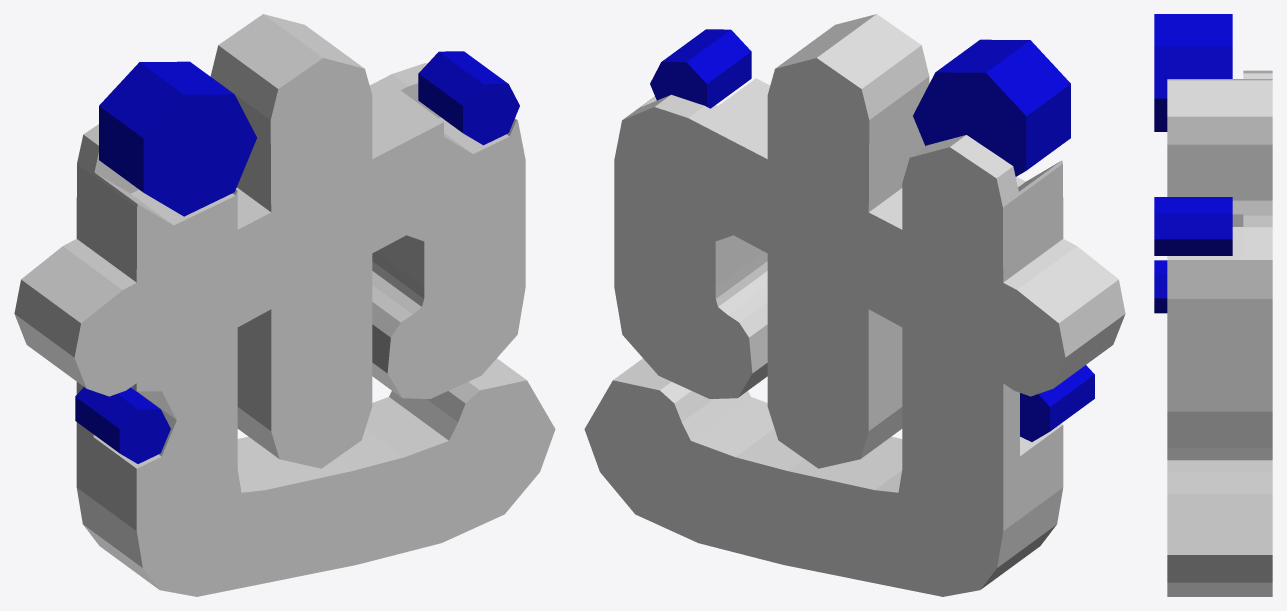
File: Ch_Lite_China_也_01.fbx
3 renders of one model, left to right at view 1: azimuth 30°, elevation 25°; view 2: azimuth 150°, elevation 25°; view 3: azimuth 270°, elevation 25°, orthographic. The views are drawn at different scales.
Parts seen in each view (by area): view 1: sphere1; view 2: sphere1; view 3: sphere1.
Boxes of the visible parts, bbox=[...] form: sphere1: bbox=[14, 14, 555, 596]; sphere1: bbox=[584, 14, 1125, 596]; sphere1: bbox=[1154, 14, 1272, 596].
Bounding box in the file's own units: 0.9243 × 0.9538 × 0.2242.
